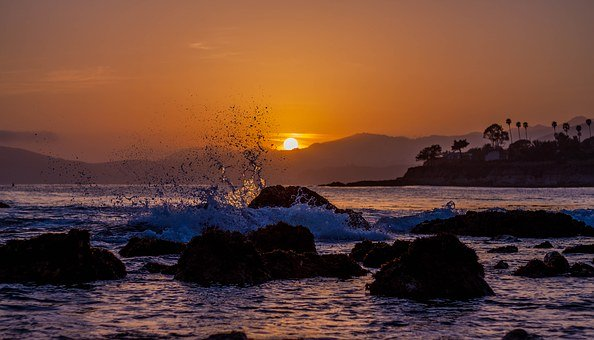mountain: (6, 131, 594, 182)
sea: (11, 184, 591, 337)
sky: (1, 1, 594, 146)
